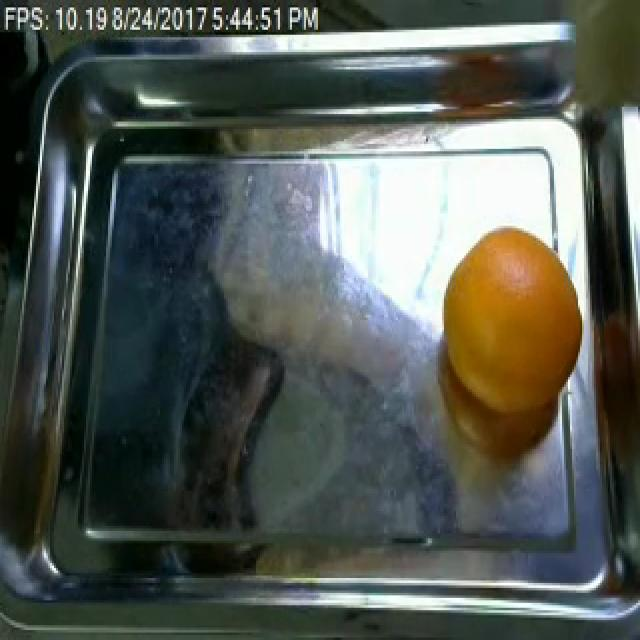Fruit: (436, 218, 590, 486)
